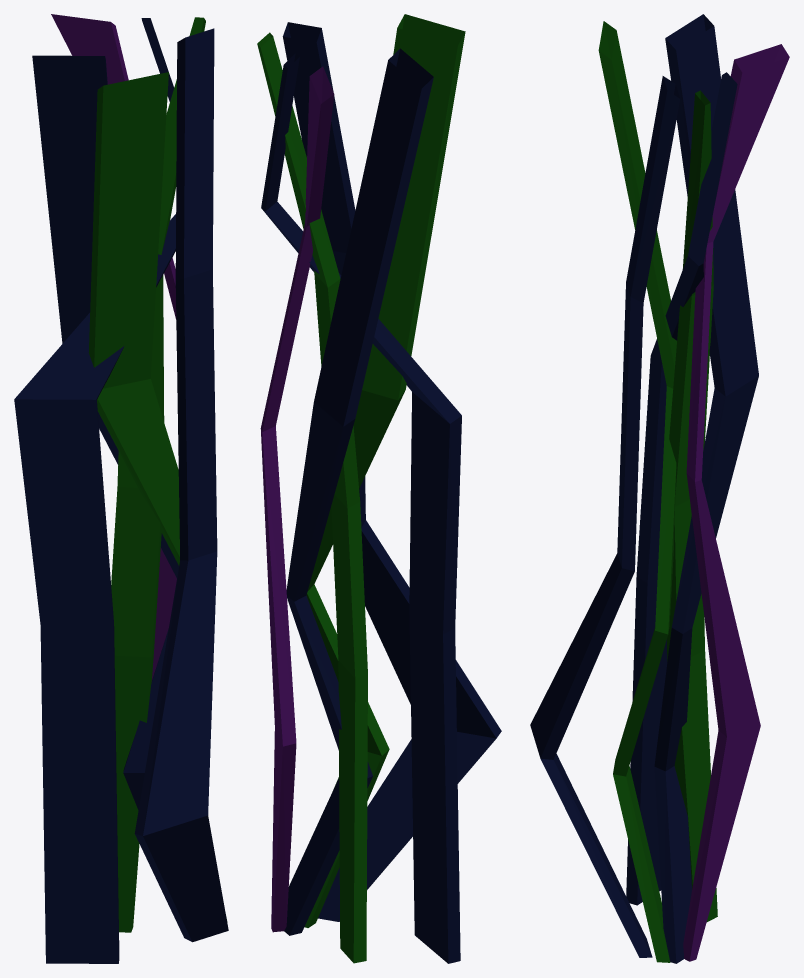
File: picassoClean1.glb
The picture shows the model from 3 angles, left to right: view 1: azimuth 30°, elevation 25°; view 2: azimuth 150°, elevation 25°; view 3: azimuth 270°, elevation 25°; orthographic projection. The views are drawn at different scales.
Visible parts, largest first — view 1: Mesh_2, Mesh_3, Mesh_6, Mesh_5, Mesh_4; view 2: Mesh_2, Mesh_5, Mesh_6, Mesh_3, Mesh_4; view 3: Mesh_2, Mesh_4, Mesh_3, Mesh_6, Mesh_5.
Boxes of the visible parts, box(x1,y1,x2,y2) form: Mesh_2: box(14, 18, 178, 963); Mesh_3: box(134, 28, 228, 942); Mesh_6: box(88, 72, 227, 921); Mesh_5: box(111, 17, 205, 932); Mesh_4: box(51, 14, 176, 681); Mesh_2: box(261, 48, 461, 963); Mesh_5: box(257, 32, 367, 963); Mesh_6: box(304, 14, 465, 927); Mesh_3: box(282, 22, 501, 921); Mesh_4: box(260, 66, 334, 932); Mesh_2: box(626, 14, 758, 963); Mesh_4: box(683, 44, 789, 961); Mesh_3: box(530, 76, 680, 957); Mesh_6: box(598, 21, 676, 962); Mesh_5: box(667, 90, 717, 921).
Size of the model in its own units: 3.37 by 14.46 by 3.91.
